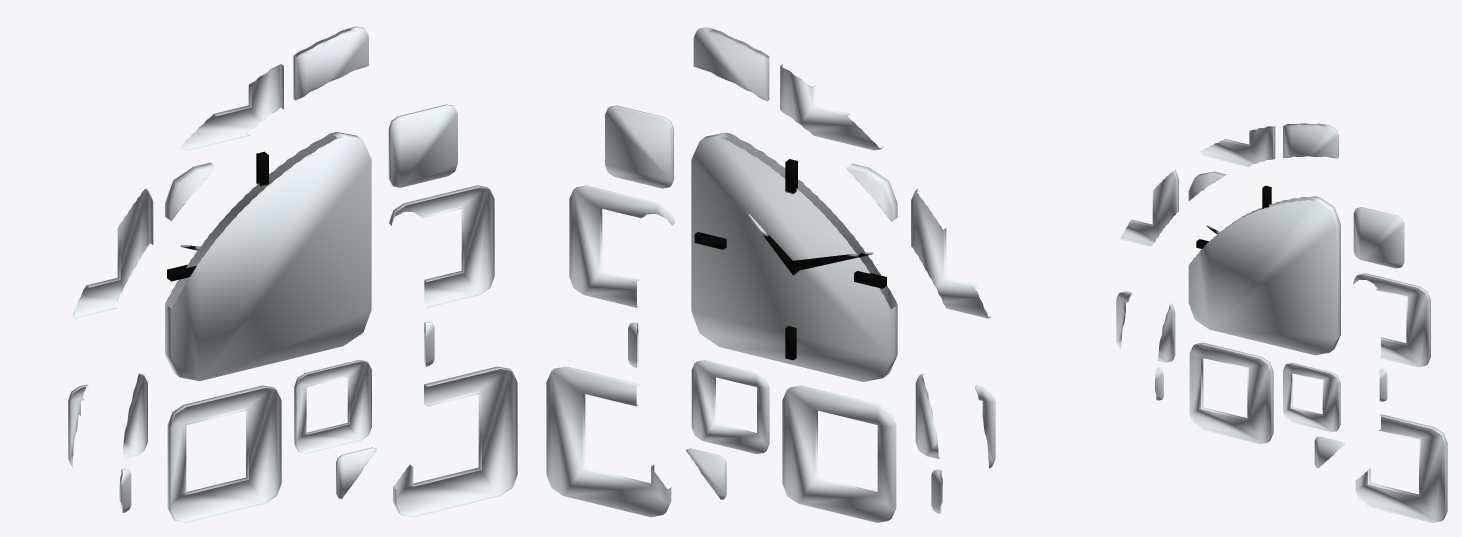
Rendered from ClockModel.fbx.
3 views of the same model, side by side, from view 1: azimuth 30°, elevation 25°; view 2: azimuth 150°, elevation 25°; view 3: azimuth 330°, elevation 25° (orthographic). The views are drawn at different scales.
Visible parts, largest first — view 1: ClockModel; view 2: ClockModel; view 3: ClockModel.
Boxes of the visible parts, left/top/right/bottom form: ClockModel: left=68, top=26, right=517, bottom=522; ClockModel: left=546, top=27, right=995, bottom=522; ClockModel: left=1116, top=123, right=1447, bottom=522.
Size of the model in its own units: 140 by 153 by 4.9.
